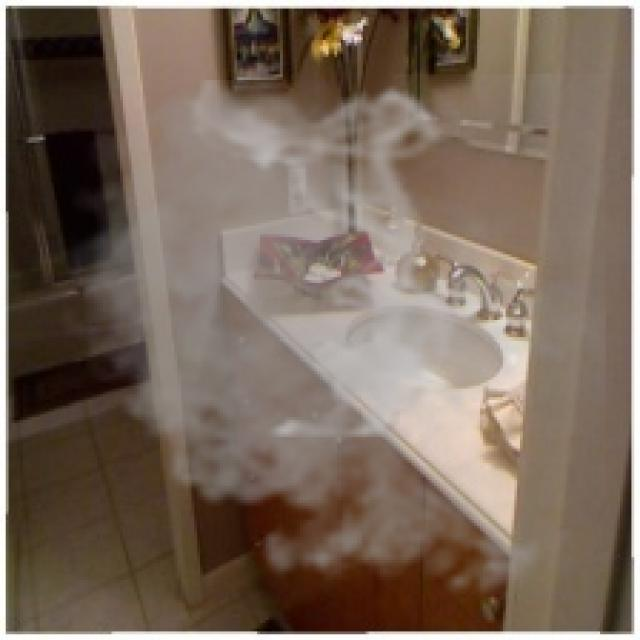smoke: (45, 74, 606, 612)
